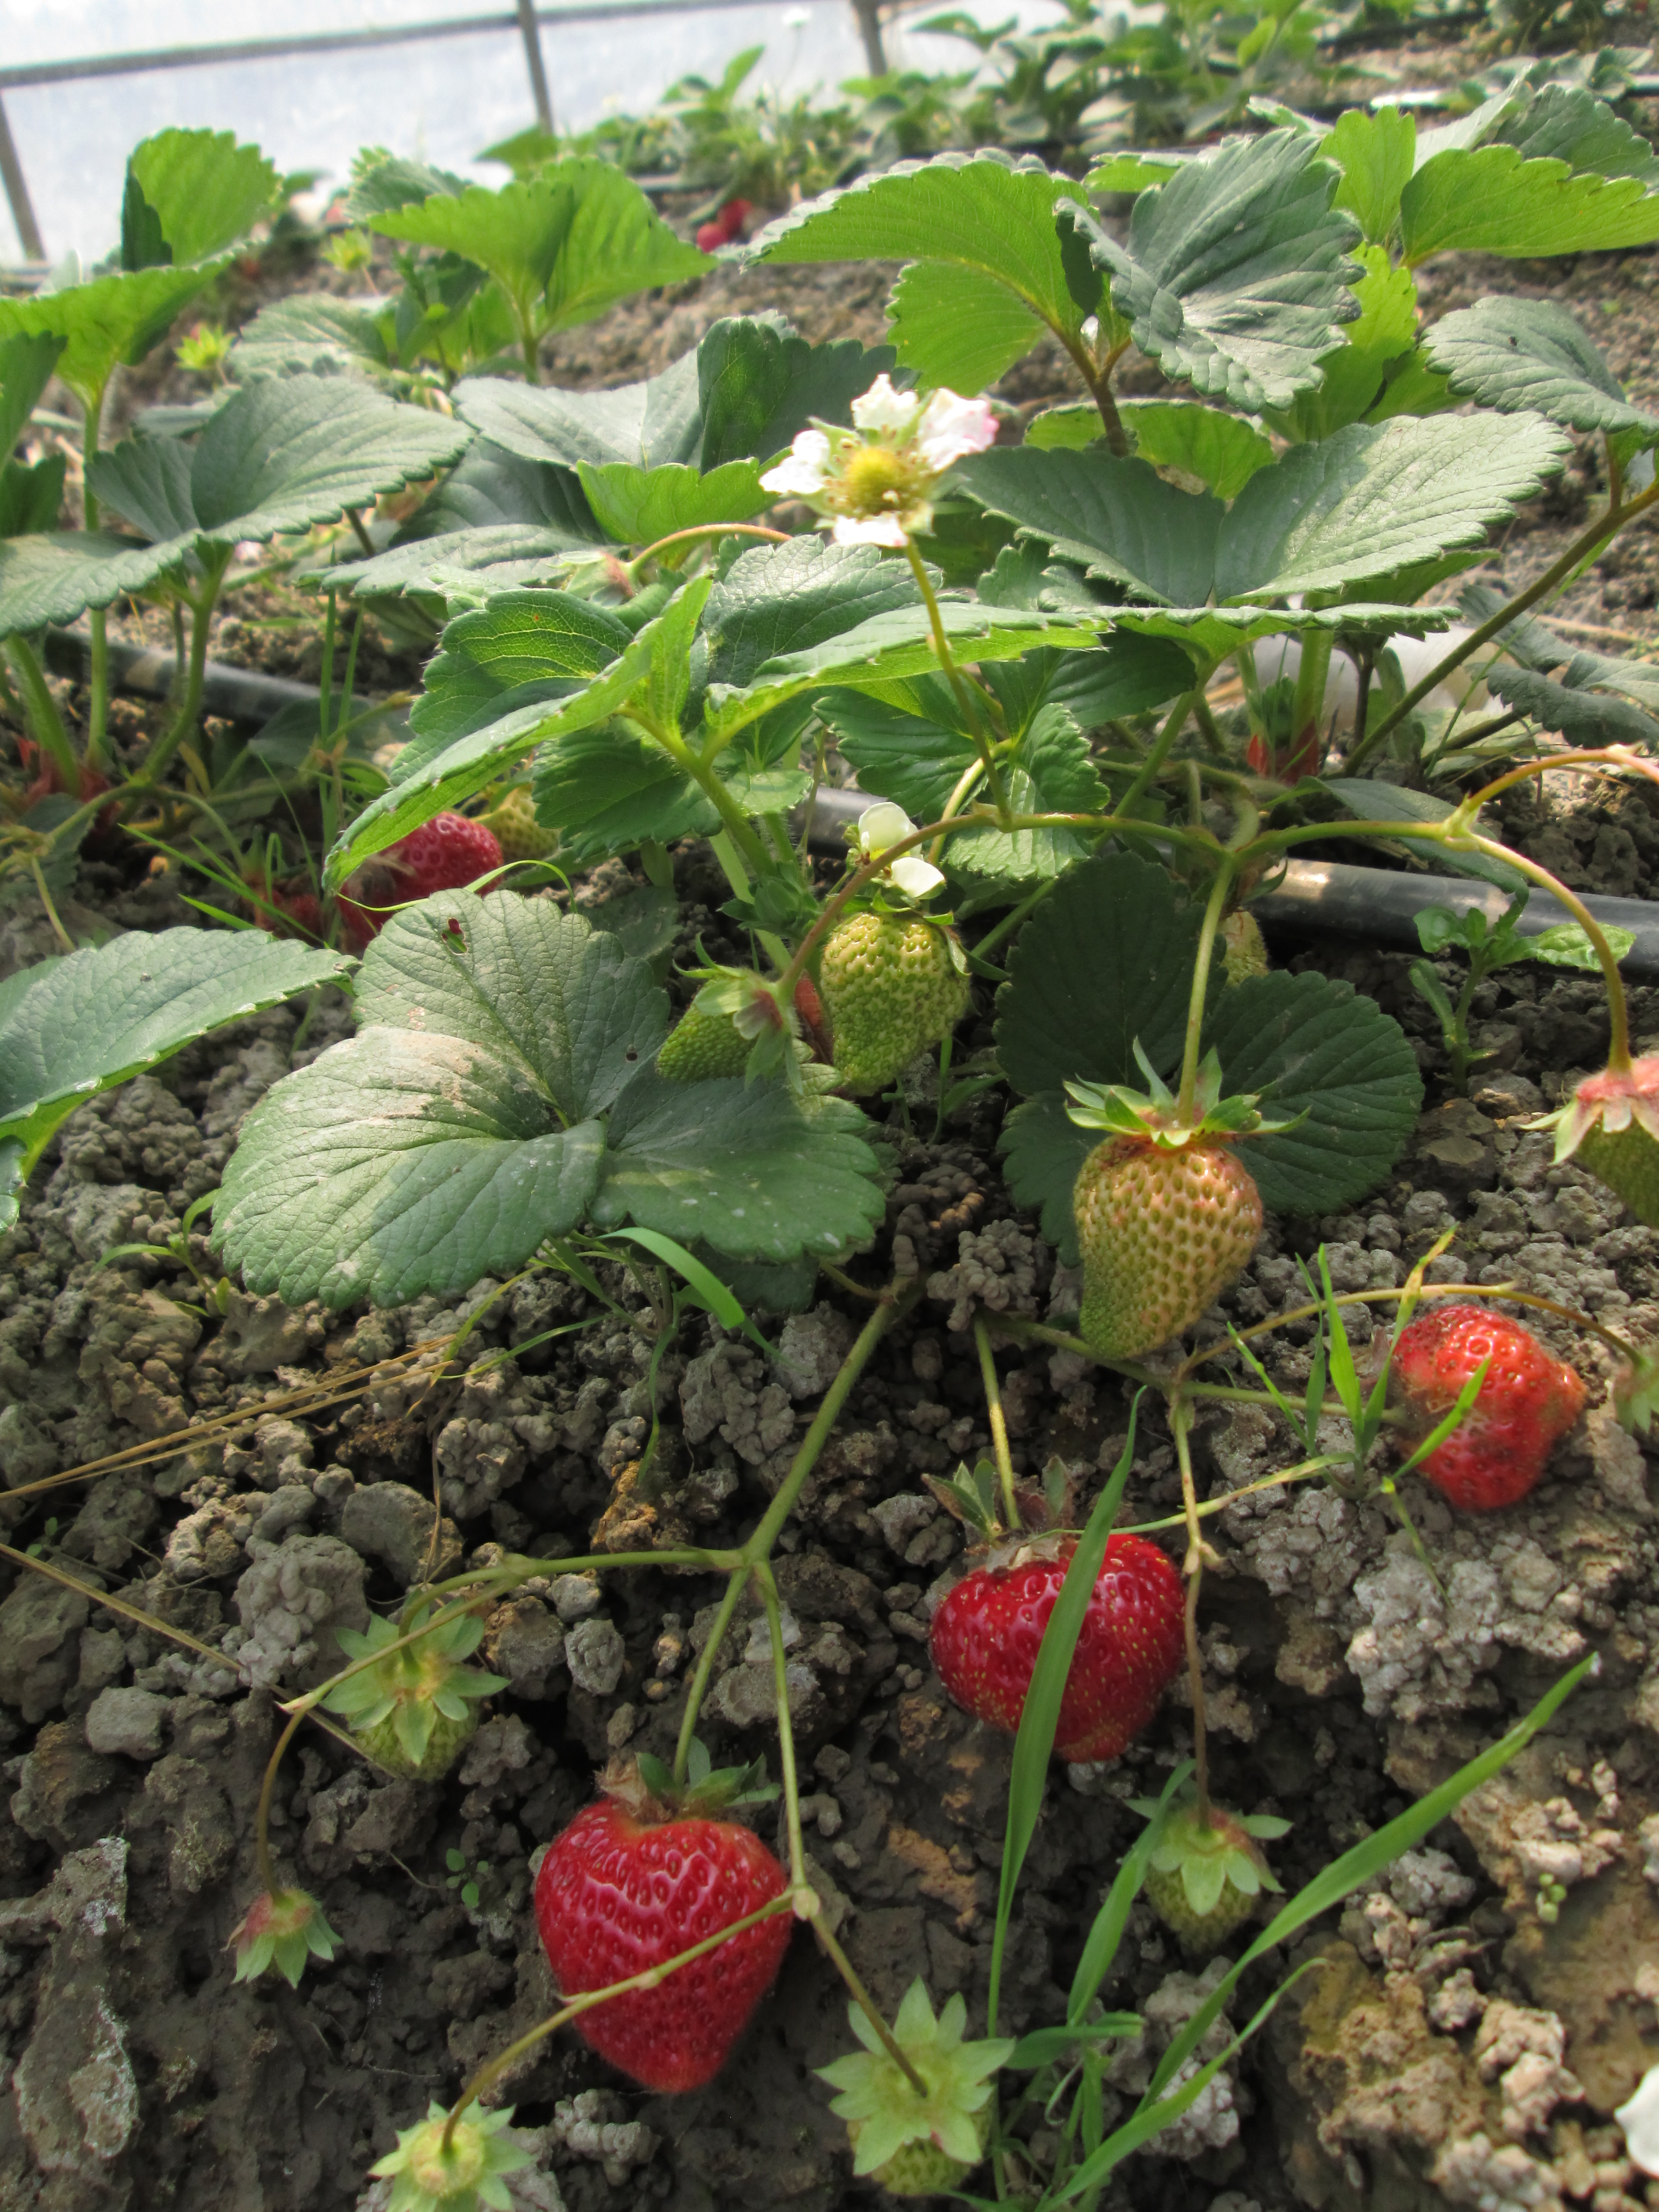StrawberryCircular: (530, 1796, 798, 2102), (929, 1529, 1194, 1766)
StrawberryIrremovable: (1066, 1103, 1269, 1359), (1384, 1310, 1589, 1522), (812, 895, 971, 1097), (840, 2038, 1002, 2196), (342, 1639, 483, 1791), (645, 967, 796, 1090), (1143, 1808, 1265, 1958), (1579, 1062, 1657, 1226), (823, 435, 920, 528), (493, 761, 573, 873)
StrawberryOther: (324, 806, 504, 954), (678, 185, 765, 260)
StrawberryRemovable: (530, 1797, 798, 2101), (931, 1531, 1192, 1766), (326, 805, 504, 951), (683, 193, 760, 254)
